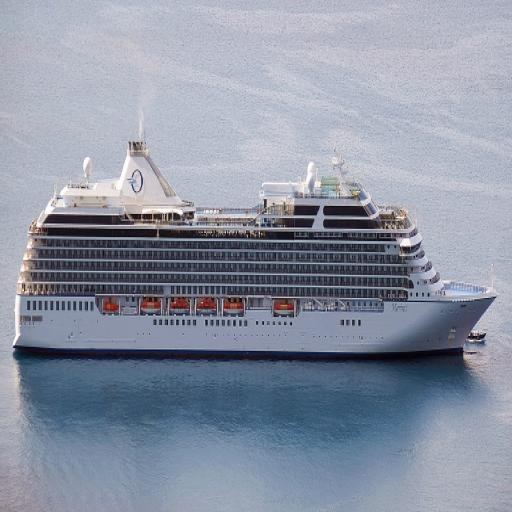cruises: (13, 114, 500, 377)
